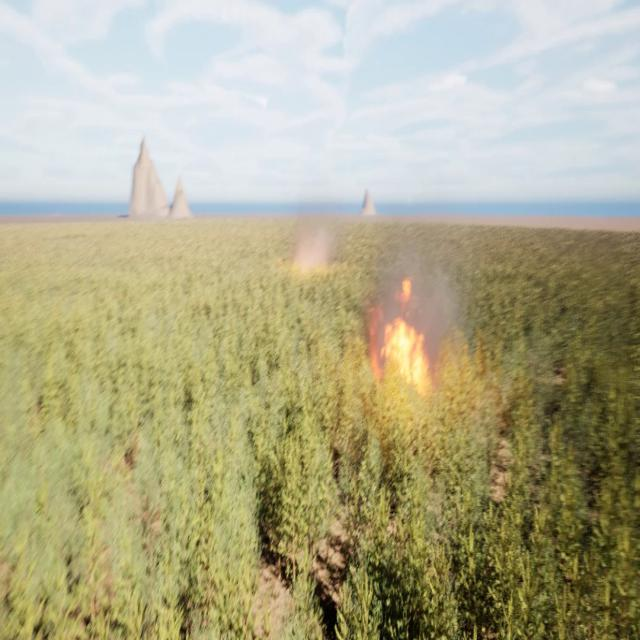fire: (368, 278, 434, 397)
smoke: (366, 226, 458, 384), (292, 209, 341, 275)
